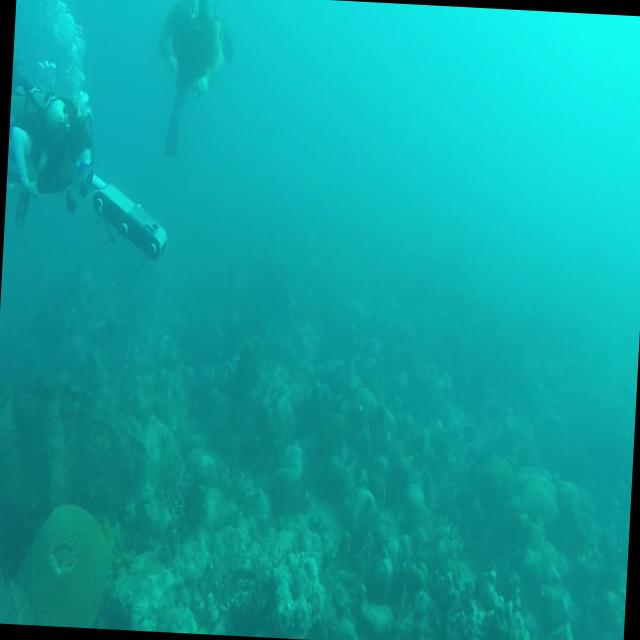human: (5, 57, 100, 216), (152, 0, 237, 161)
